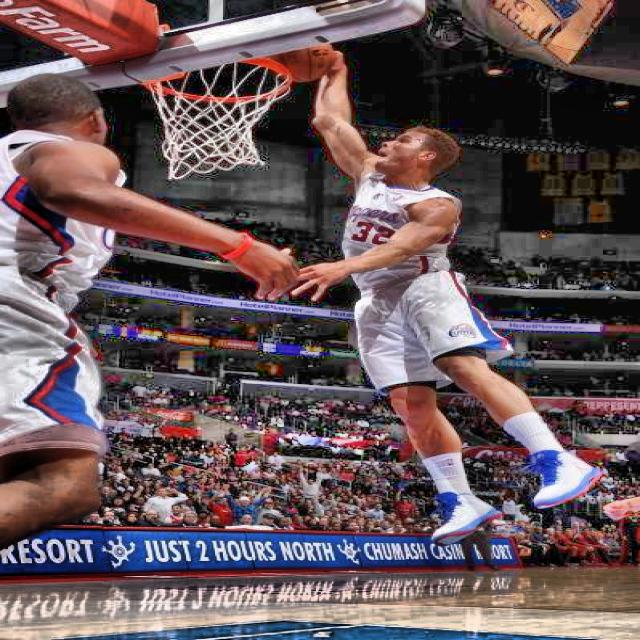rim: (132, 57, 295, 177)
